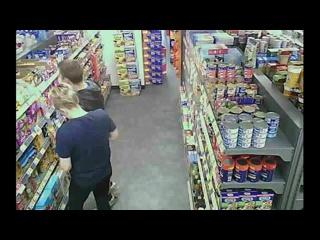shoplifting: (49, 83, 120, 210), (58, 60, 106, 112)
